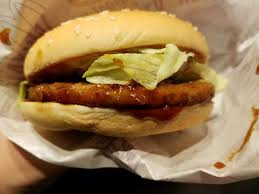hamburger: (22, 6, 216, 136)
